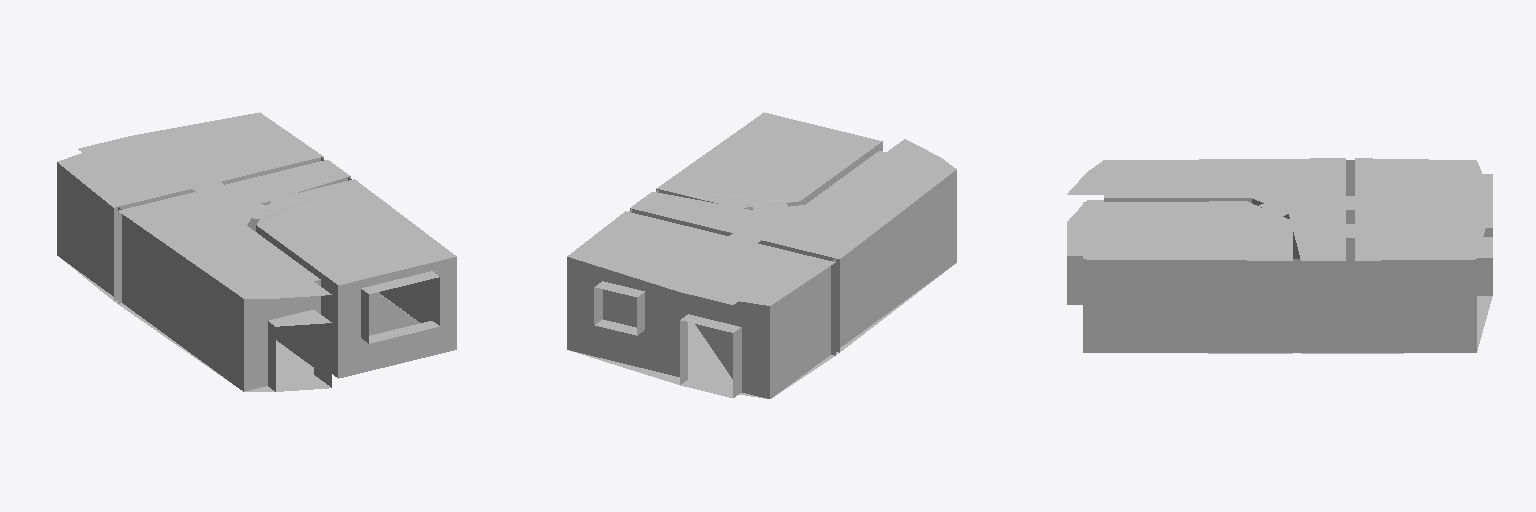
Rendered from Floor Plan.obj.
The picture shows the model from 3 angles: view 1: azimuth 30°, elevation 25°; view 2: azimuth 150°, elevation 25°; view 3: azimuth 270°, elevation 25°; orthographic projection.
Parts seen in each view (by area): view 1: Plane; view 2: Plane; view 3: Plane.
Boxes of the visible parts, <box> form: Plane: <box>57,112,456,391</box>; Plane: <box>567,112,956,398</box>; Plane: <box>1067,158,1492,353</box>.
Bounding box in the file's own units: 5.9 × 2.51 × 10.38.